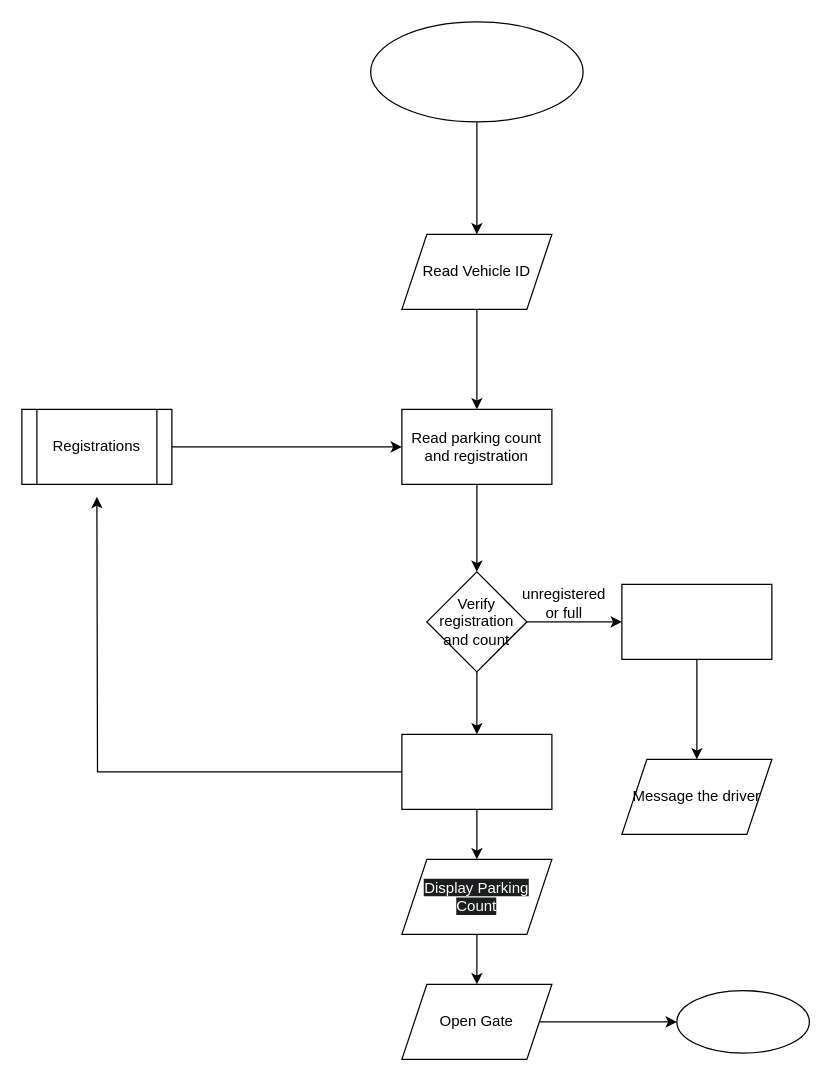
Some shapes in this 831 by 1081 pixel diagram are drawn without their labels. The centre of each missing label's shape, as x and y in pixels:
"End" belongs at (x=742, y=1021).
"Start" belongs at (x=476, y=71).
"store parking count and registration" belongs at (x=476, y=771).
"Trigger alert and keep the gate closed" belongs at (x=696, y=621).
